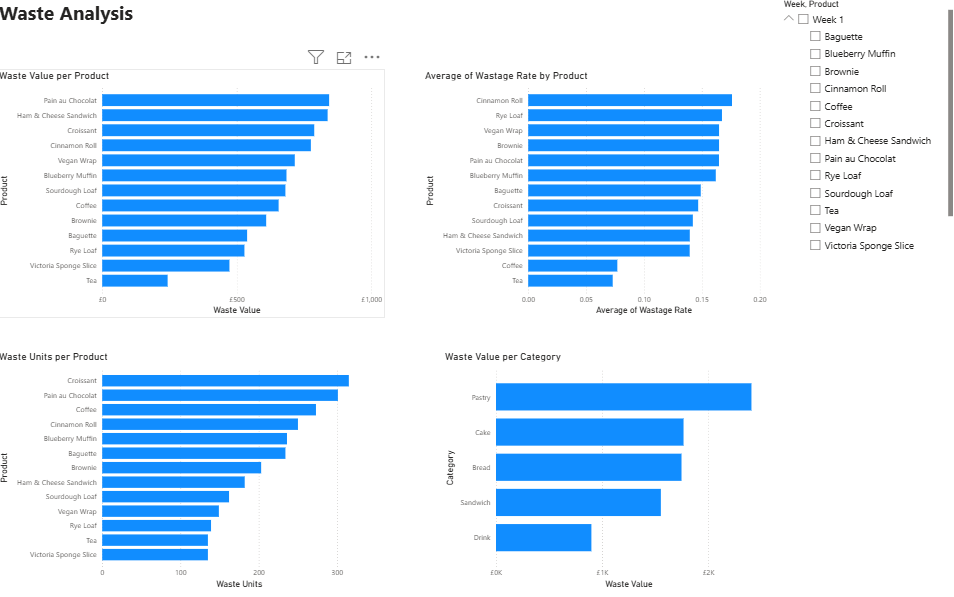

The page's visual inventory and layout, read from the dashboard file:
{"tool":"powerbi","page":{"name":"Waste Analysis","canvas":[1600,1200],"ordinal":2},"visuals":[{"type":"clusteredBarChart","title":"Waste Value per Product","fields":{"Y":["Sum(BakeryLog.Waste Value)"],"Category":["BakeryLog.Product"]},"box":[0,121.7,648.8,415],"z":0},{"type":"clusteredBarChart","title":"Waste Units per Product","fields":{"Y":["Sum(BakeryLog.Waste Units)"],"Category":["BakeryLog.Product"]},"box":[0,590.4,648.8,402.5],"z":1000},{"type":"clusteredBarChart","title":"Waste Value per Category","fields":{"Y":["Sum(BakeryLog.Waste Value)"],"Category":["BakeryLog.Category"]},"box":[742.5,590.4,547.5,402.5],"z":2000},{"type":"clusteredBarChart","fields":{"Y":["Avg(BakeryLog.Wastage Rate)"],"Category":["BakeryLog.Product"]},"box":[710,121.7,580,415],"z":3000},{"type":"slicer","fields":{"Values":["BakeryLog.Week","BakeryLog.Product"]},"box":[1300,0,300,440],"z":4000},{"type":"textbox","box":[0,0,690,71.7],"z":4001}]}

Visuals, with their boxes on the page's 1600x1200 design canvas (x1, y1, x2, y2). These are canvas units, not pixel positions in the 954x597 screenshot, which may show the page scaled, cropped or inside an application window:
"Waste Value per Product" clusteredBarChart: box(0, 122, 649, 537)
"Waste Units per Product" clusteredBarChart: box(0, 590, 649, 993)
"Waste Value per Category" clusteredBarChart: box(742, 590, 1290, 993)
clusteredBarChart - Avg(BakeryLog.Wastage Rate) x BakeryLog.Product: box(710, 122, 1290, 537)
slicer - BakeryLog.Week x BakeryLog.Product: box(1300, 0, 1600, 440)
textbox: box(0, 0, 690, 72)
